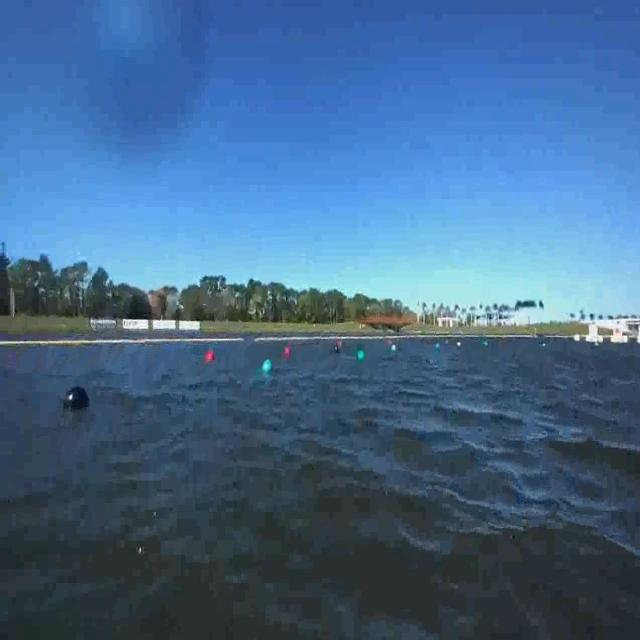black-buoy: (61, 384, 90, 410)
green-buoy: (264, 358, 274, 374), (358, 350, 364, 361)
red-buoy: (285, 342, 292, 360), (207, 351, 216, 363)
red-column-buoy: (339, 340, 343, 353)
